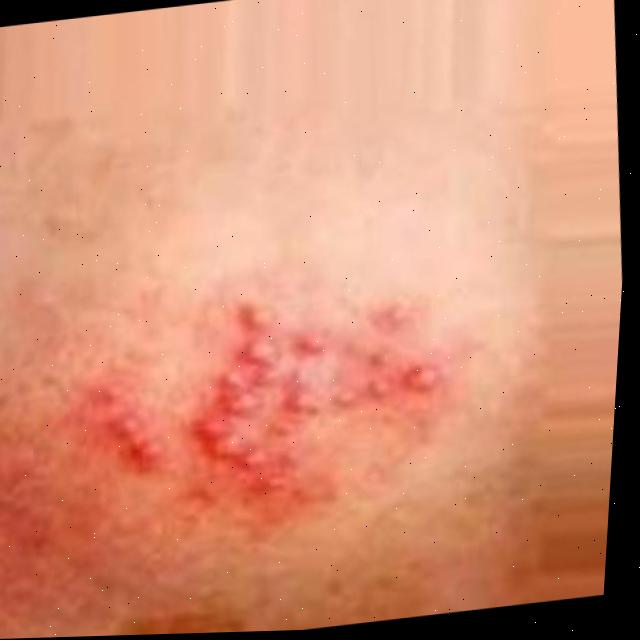Shingles: (63, 289, 466, 526)
